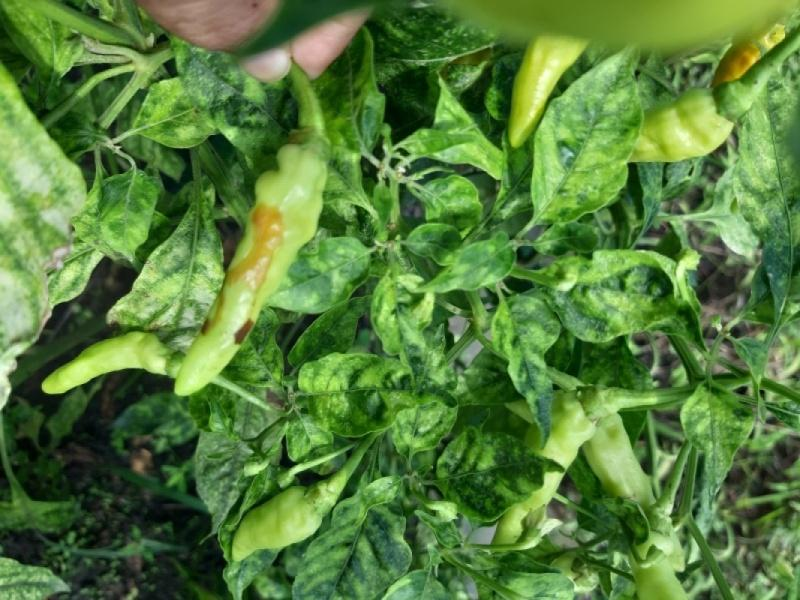antraknosa: (177, 141, 329, 400)
cabai_normal: (487, 391, 607, 552), (502, 32, 591, 147), (617, 86, 741, 164), (42, 332, 183, 396), (232, 481, 328, 564)
